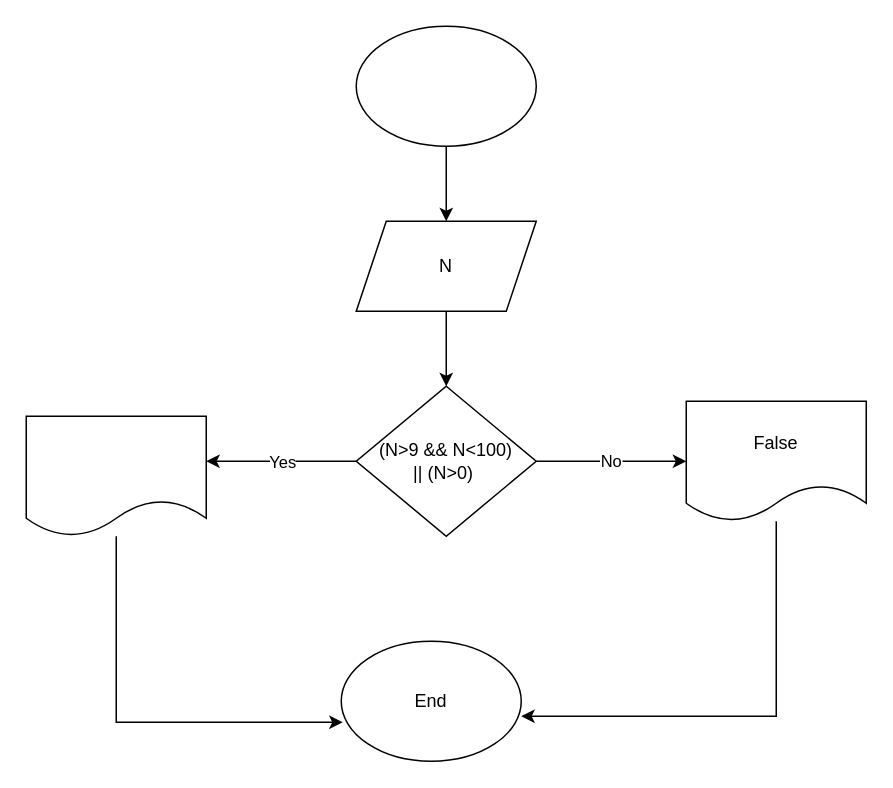
Image size: 893x788. Some labels were removed from this diagram. The shapes that lost their labels are listed below. From the top down, each one's box as (x1, y1, x2, y2) in pixels, then its label:
(355, 25, 536, 146): Start
(25, 415, 206, 536): True
